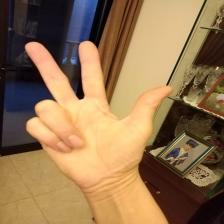three: (22, 40, 174, 171)
